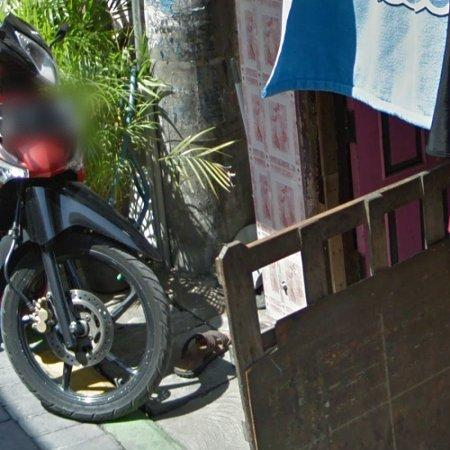motorcycles: (2, 244, 170, 422)
